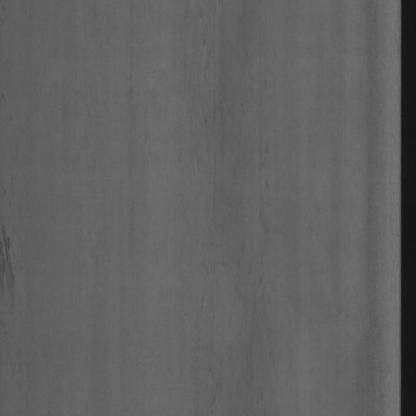silk_spot: (176, 41, 286, 383)
water_spot: (1, 220, 37, 320)
